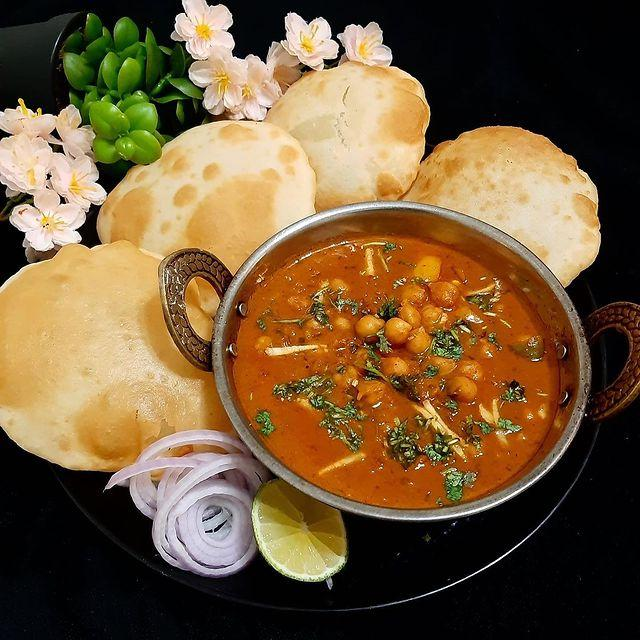Chole: (332, 270, 482, 416)
